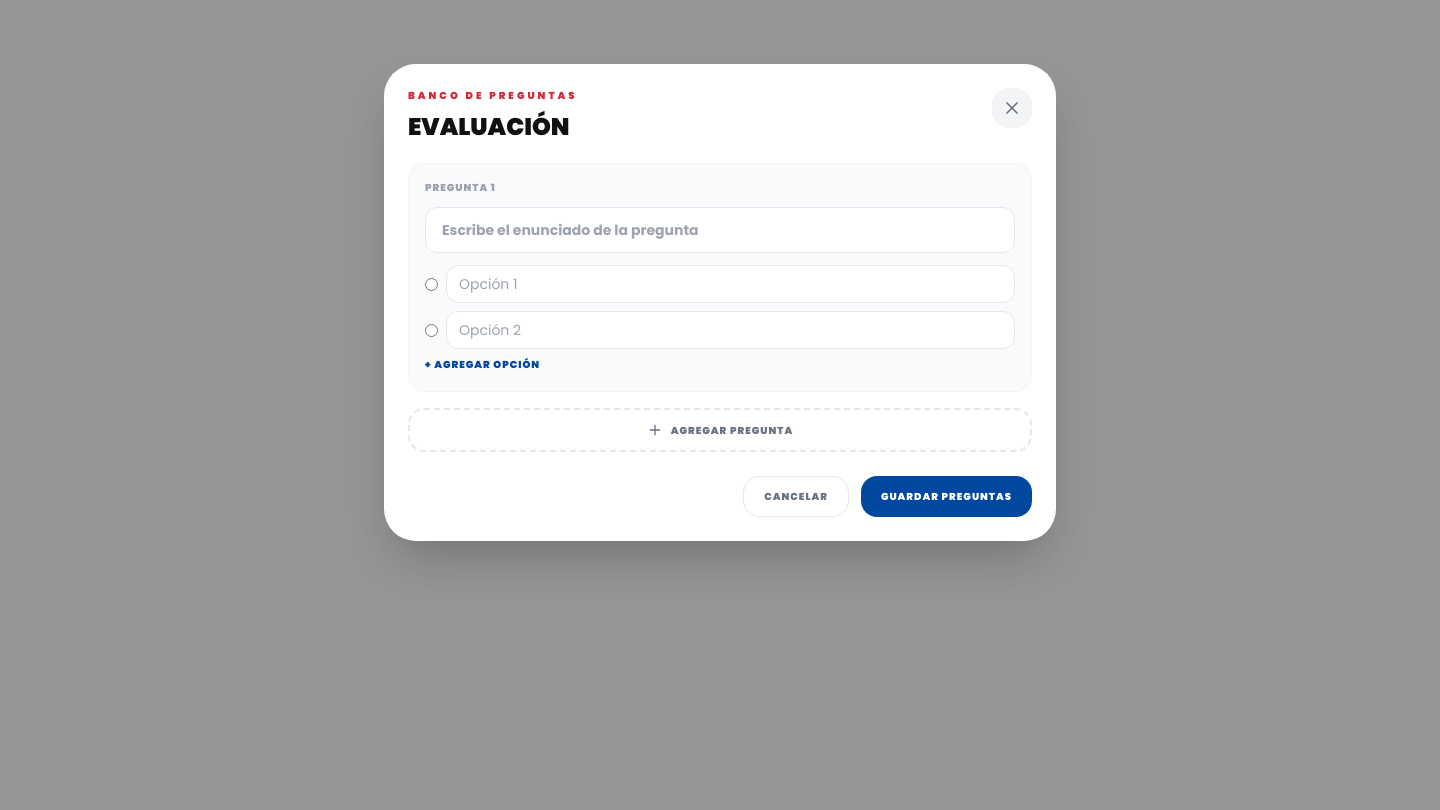
Test case: QuizEditorModal › agrega y elimina preguntas
Expected: the field labelled "Pregunta 1" is shown, x1=425 y1=207 x2=1015 y2=253
Click the button "Agregar pregunta". click: (720, 430)
box: x1=408 y1=408 x2=1032 y2=452
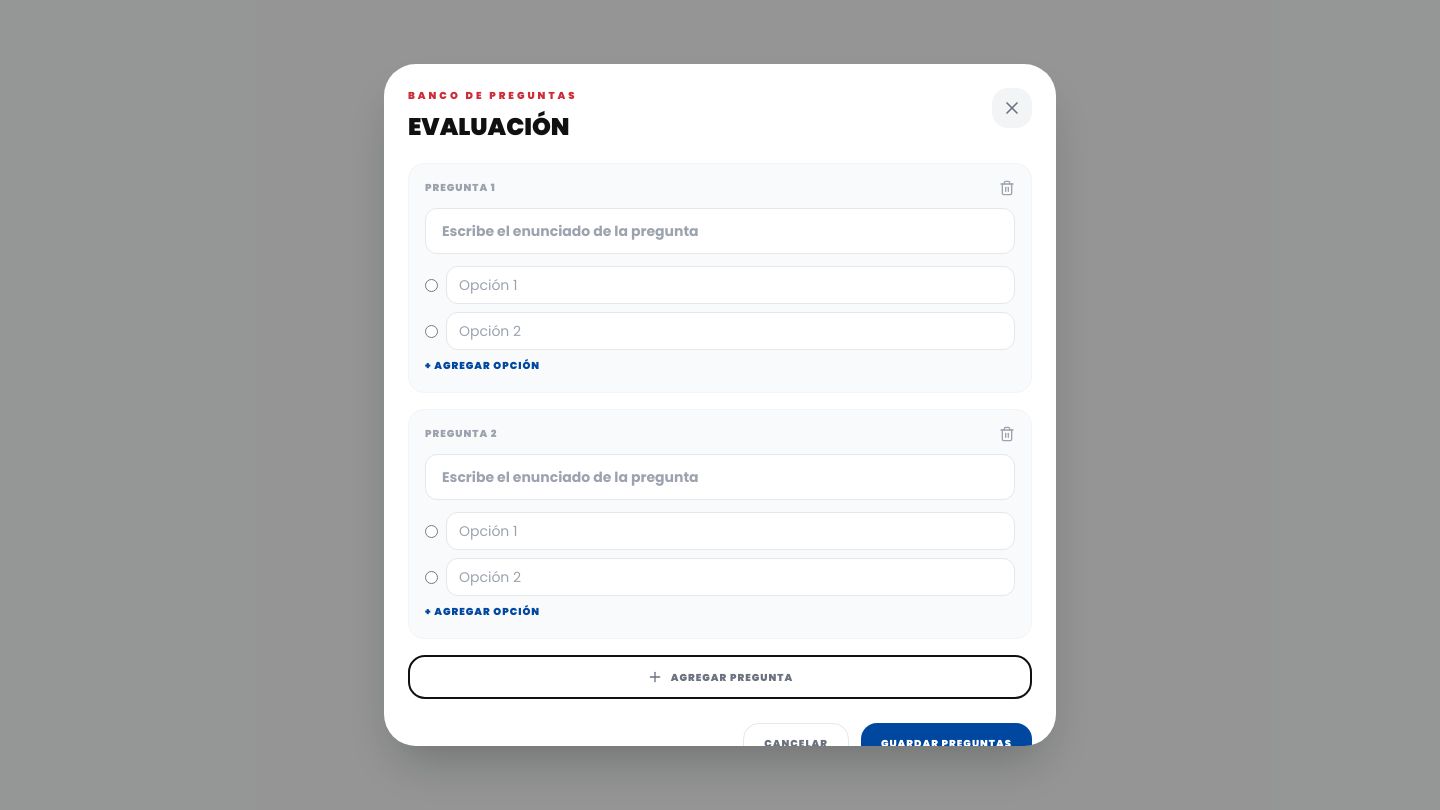
Now the field labelled "Pregunta 2" is shown, box x1=425 y1=454 x2=1015 y2=500
Click the button named "eliminar pregunta 2". click: (1007, 434)
box: x1=999 y1=426 x2=1015 y2=442
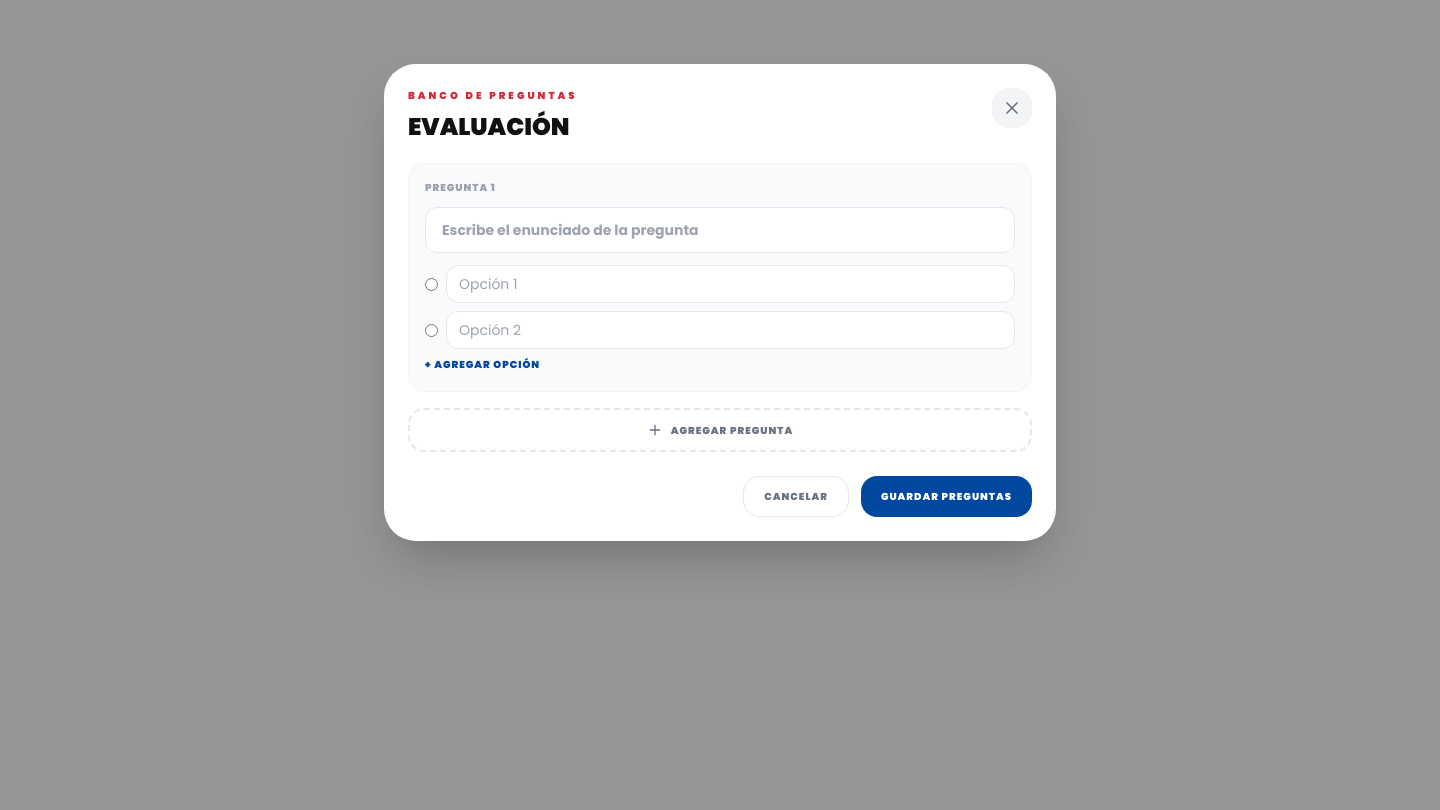
Now the label labelled "Pregunta 2" is gone
